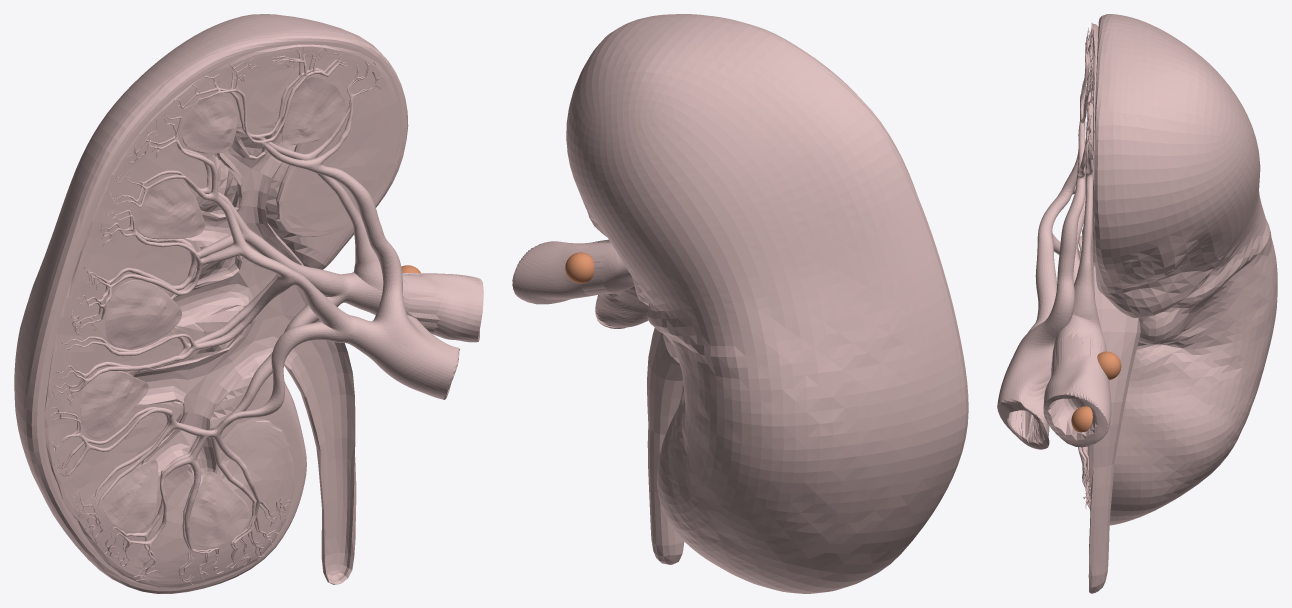
Rendered from kidney_786769dd.glb.
3 renders of one model, left to right at view 1: azimuth 30°, elevation 25°; view 2: azimuth 150°, elevation 25°; view 3: azimuth 270°, elevation 25°, orthographic. The views are drawn at different scales.
Visible parts, largest first — view 1: world; view 2: world; view 3: world.
Part boxes in pixels (bbox=[...]): world: bbox=[14, 14, 483, 593]; world: bbox=[512, 14, 968, 593]; world: bbox=[997, 14, 1277, 593].
Bounding box in the file's own units: 8.47 × 10.1 × 4.88.
